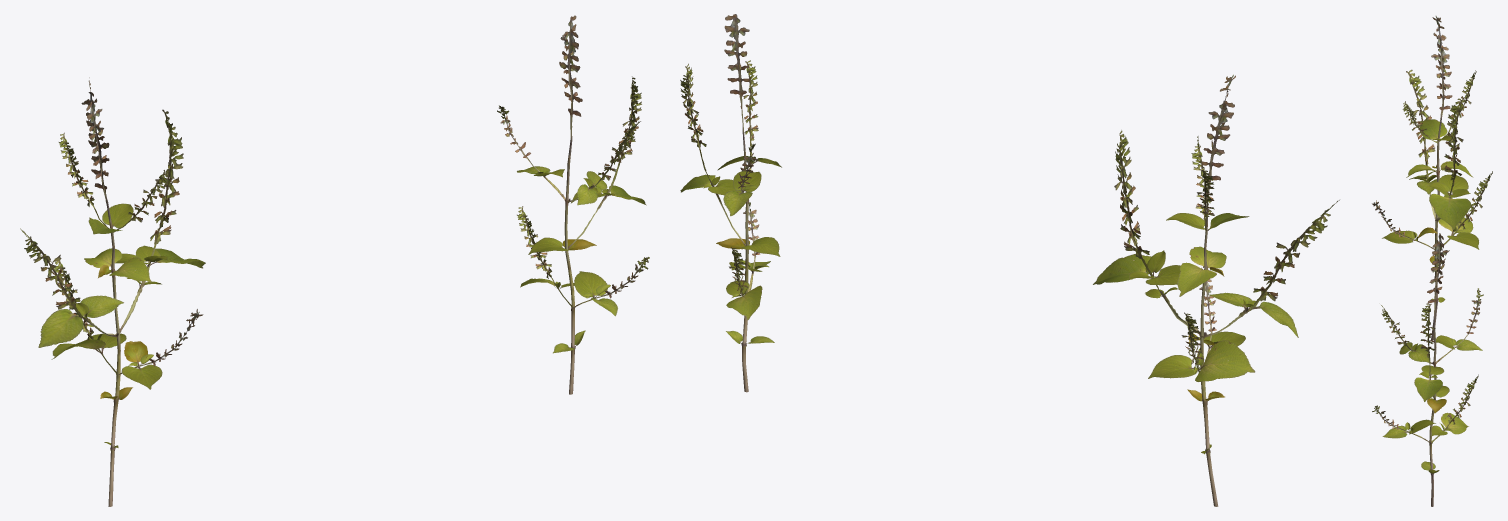
The model's file is shrub_03.glb.
3 views of the same model, side by side, from view 1: azimuth 30°, elevation 25°; view 2: azimuth 150°, elevation 25°; view 3: azimuth 270°, elevation 25° (orthographic). The views are drawn at different scales.
Visible parts, largest first — view 1: shrub_03; view 2: shrub_03; view 3: shrub_03.
Part boxes in pixels (x1=…): shrub_03: x1=20, y1=15, x2=649, y2=506; shrub_03: x1=680, y1=14, x2=1339, y2=506; shrub_03: x1=1372, y1=16, x2=1492, y2=506.
Size of the model in its own units: 1.4 by 0.9 by 0.3129.
1 material, 1 textured.
